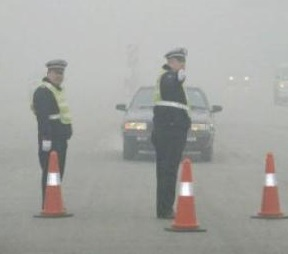person: (29, 55, 76, 214), (151, 46, 192, 222)
